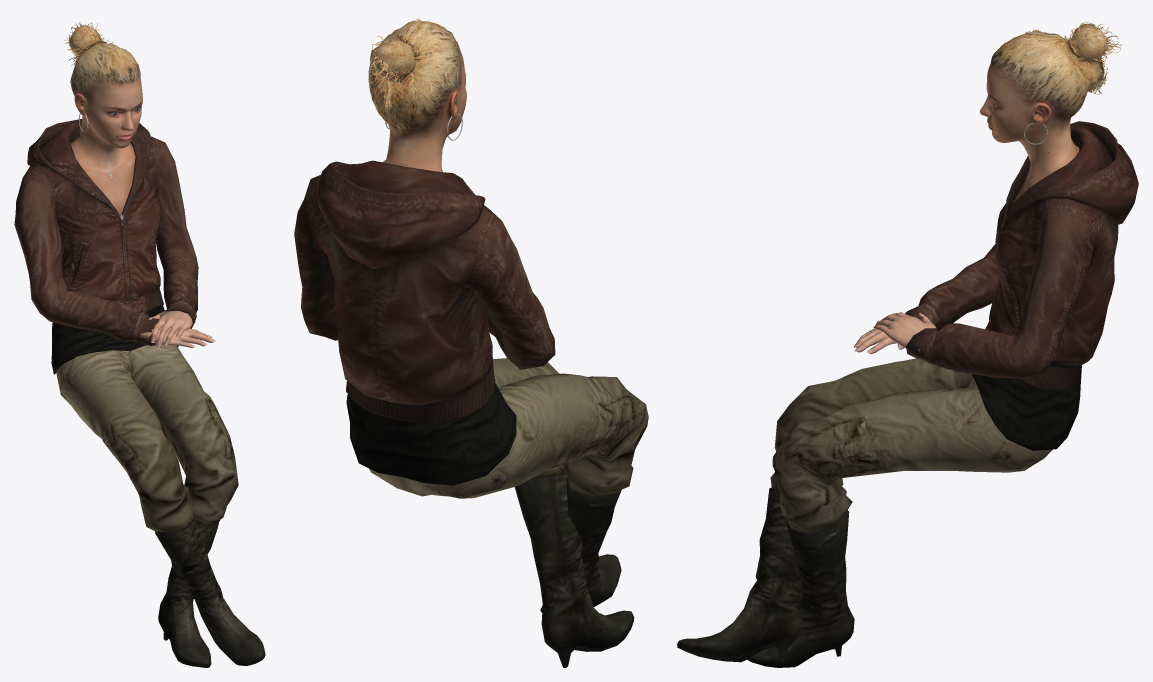
The model's file is Female_Adult_04.glb.
3 views of the same model, side by side, from view 1: azimuth 30°, elevation 25°; view 2: azimuth 150°, elevation 25°; view 3: azimuth 270°, elevation 25° (orthographic). The views are drawn at different scales.
Parts seen in each view (by area): view 1: Female_Adult_04; view 2: Female_Adult_04; view 3: Female_Adult_04.
Boxes of the visible parts, box(x1,y1,x2,y2) form: Female_Adult_04: box(14, 22, 265, 667); Female_Adult_04: box(294, 18, 648, 667); Female_Adult_04: box(677, 22, 1138, 667).
Bounding box in the file's own units: 0.4818 × 1.46 × 0.9307.
3 materials, 3 textured.
